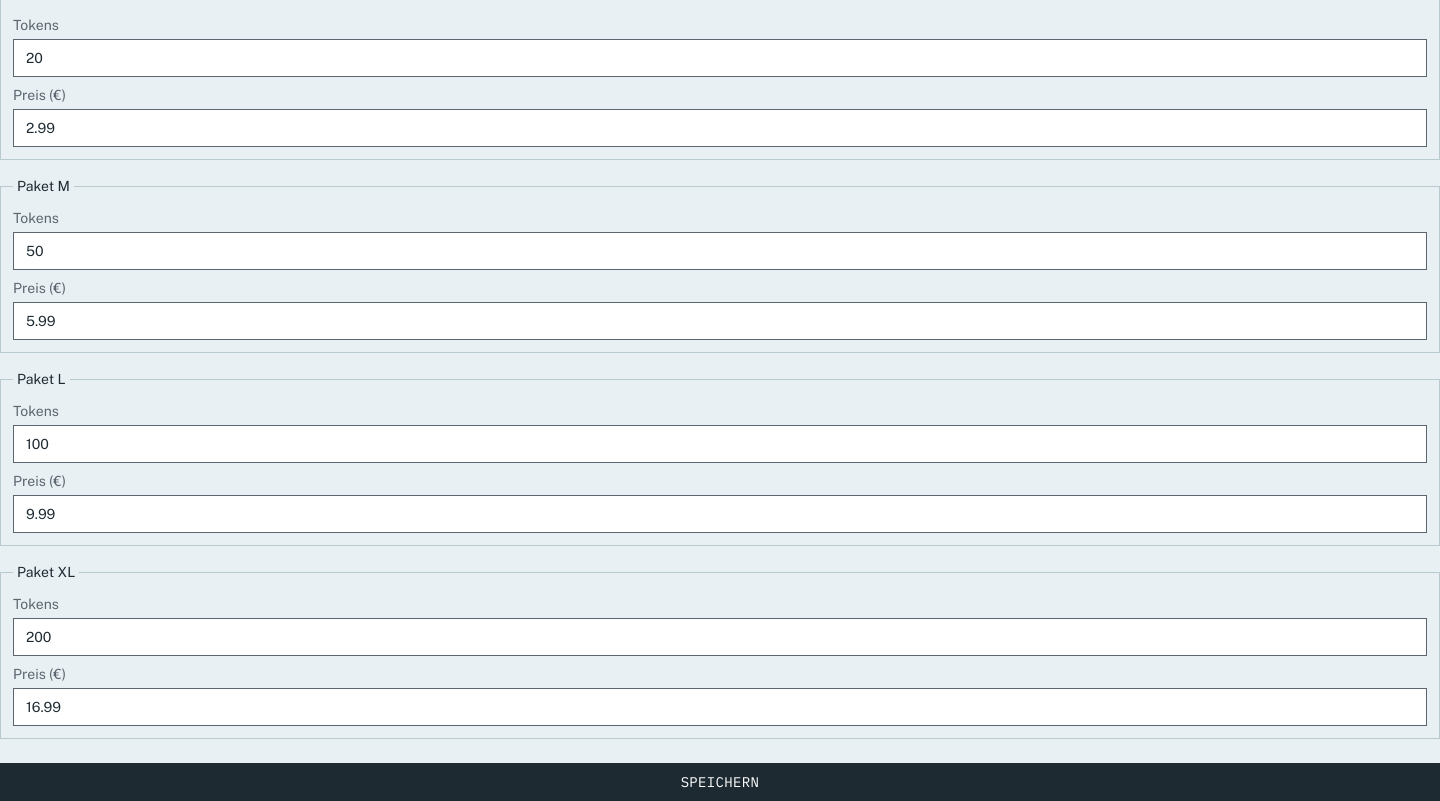
Test: AdminSettingsPage › shows an error when loading or saving fails
(page scrolled)
Click the button "Speichern". click: (720, 782)
box: [0,763,1439,800]
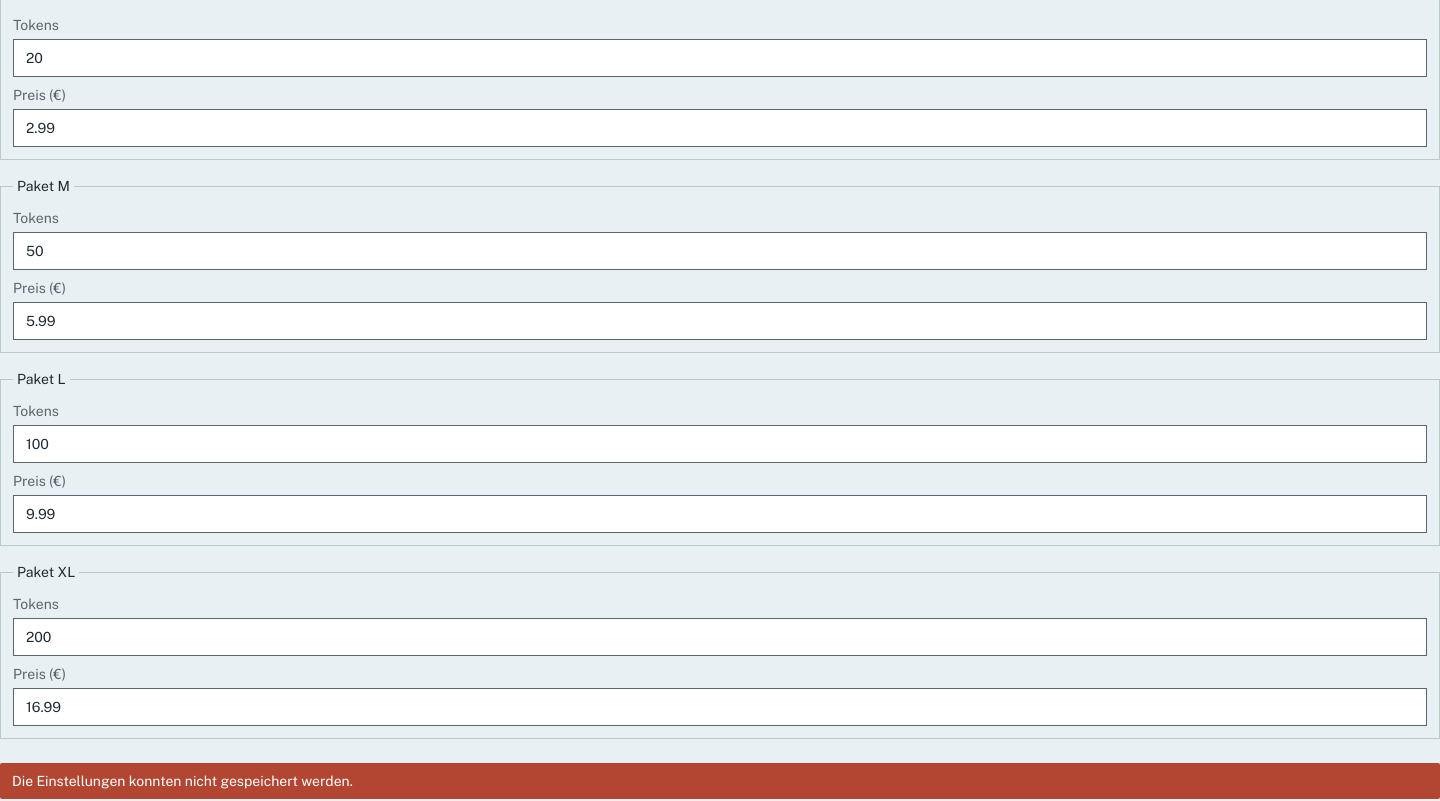
Now the text "Die Einstellungen konnten nicht gespeichert werden." is shown, box [12,771,353,791]
